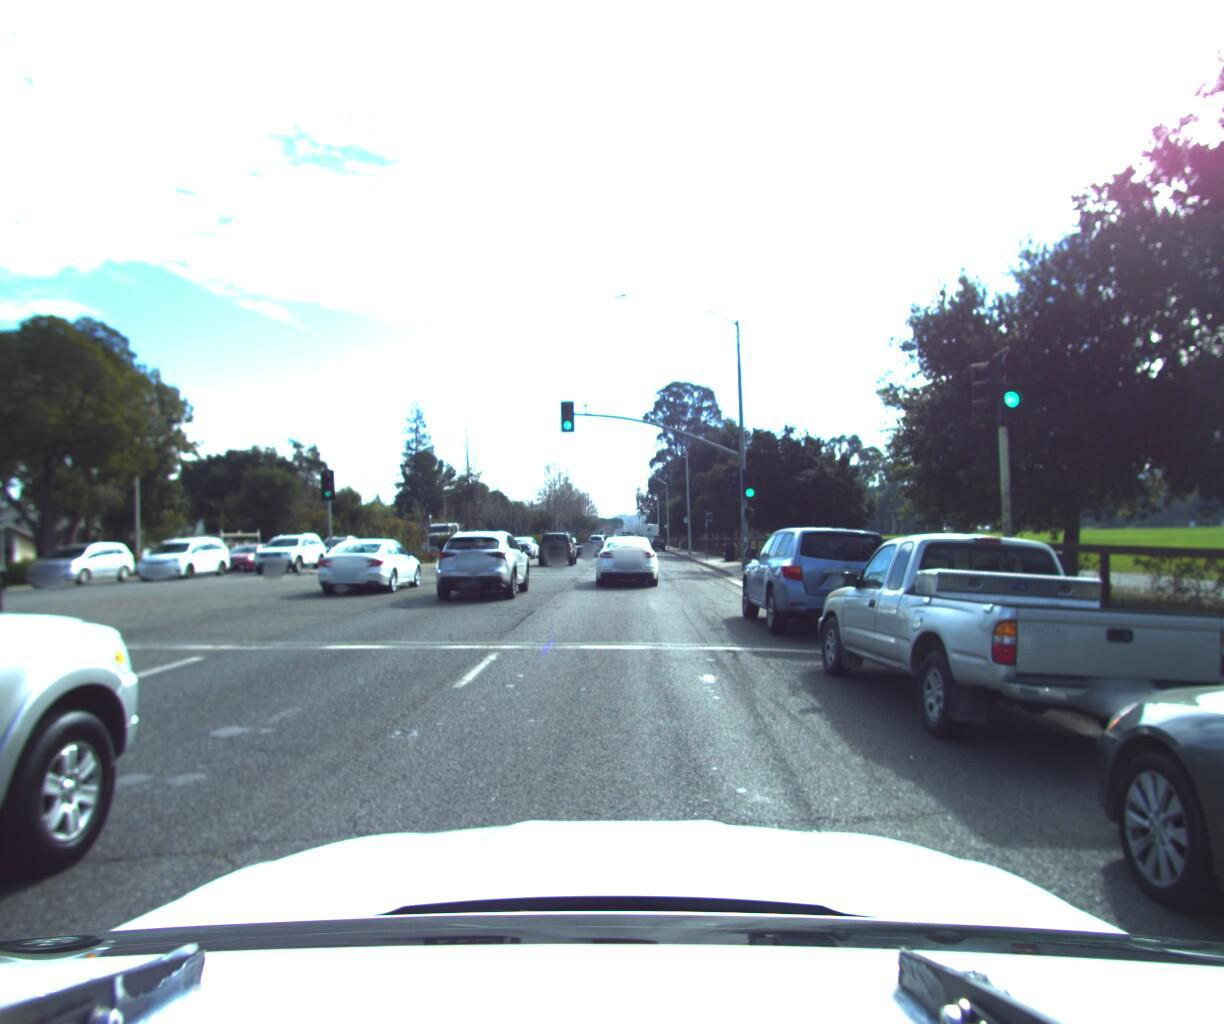car: (0, 0, 205, 1024), (809, 522, 1224, 798), (738, 519, 910, 649), (430, 527, 536, 603), (311, 536, 431, 596), (21, 542, 145, 590), (132, 535, 238, 581), (595, 532, 662, 587), (251, 532, 334, 576), (0, 519, 20, 644), (215, 541, 291, 573), (309, 532, 372, 569), (535, 526, 578, 562), (505, 531, 542, 555), (568, 534, 598, 555)
truck: (140, 527, 268, 576), (419, 516, 479, 562)
